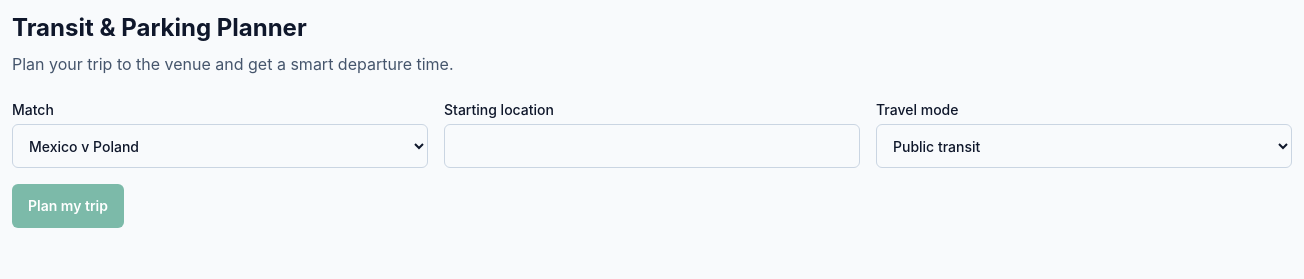
Test case: TransitPlanner › shows an error alert when the request fails
Type "Downtown" into the field labelled "Starting location" at (652, 146), box x1=444 y1=124 x2=860 y2=168
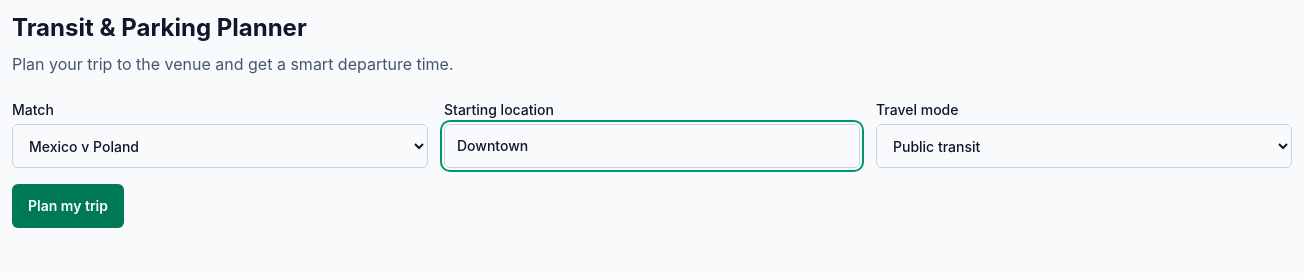
Click the button "Plan my trip" at (68, 206), box x1=12 y1=184 x2=124 y2=228
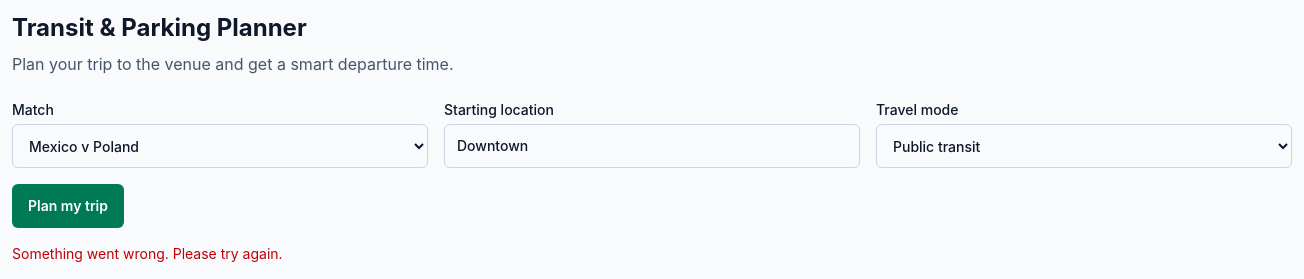
Result: the message shows "Something went wrong" at x1=12 y1=245 x2=283 y2=262
